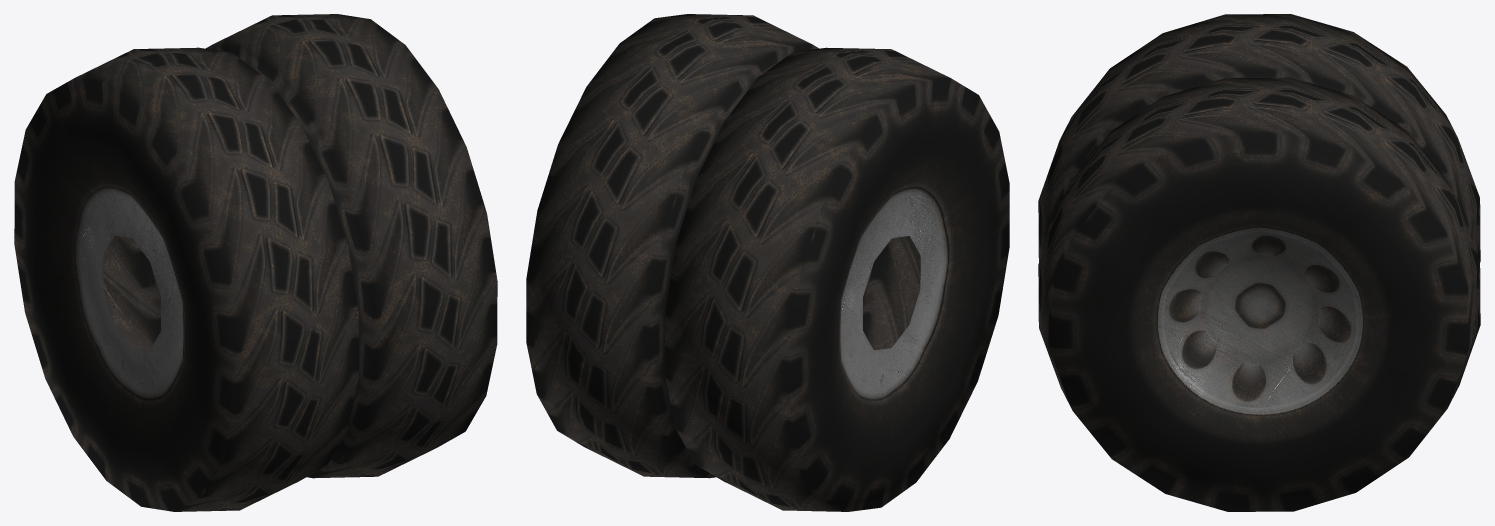
Rendered from T800 Wheel RL.fbx.
The picture shows the model from 3 angles, left to right: view 1: azimuth 30°, elevation 25°; view 2: azimuth 150°, elevation 25°; view 3: azimuth 270°, elevation 25°; orthographic projection. The views are drawn at different scales.
Visible parts, largest first — view 1: T800 Wheel RL; view 2: T800 Wheel RL; view 3: T800 Wheel RL.
Part boxes in pixels (left/top/right/bottom): T800 Wheel RL: left=14, top=14, right=497, bottom=511; T800 Wheel RL: left=526, top=14, right=1009, bottom=511; T800 Wheel RL: left=1038, top=14, right=1480, bottom=511.
Size of the model in its own units: 84.82 by 124 by 124.
